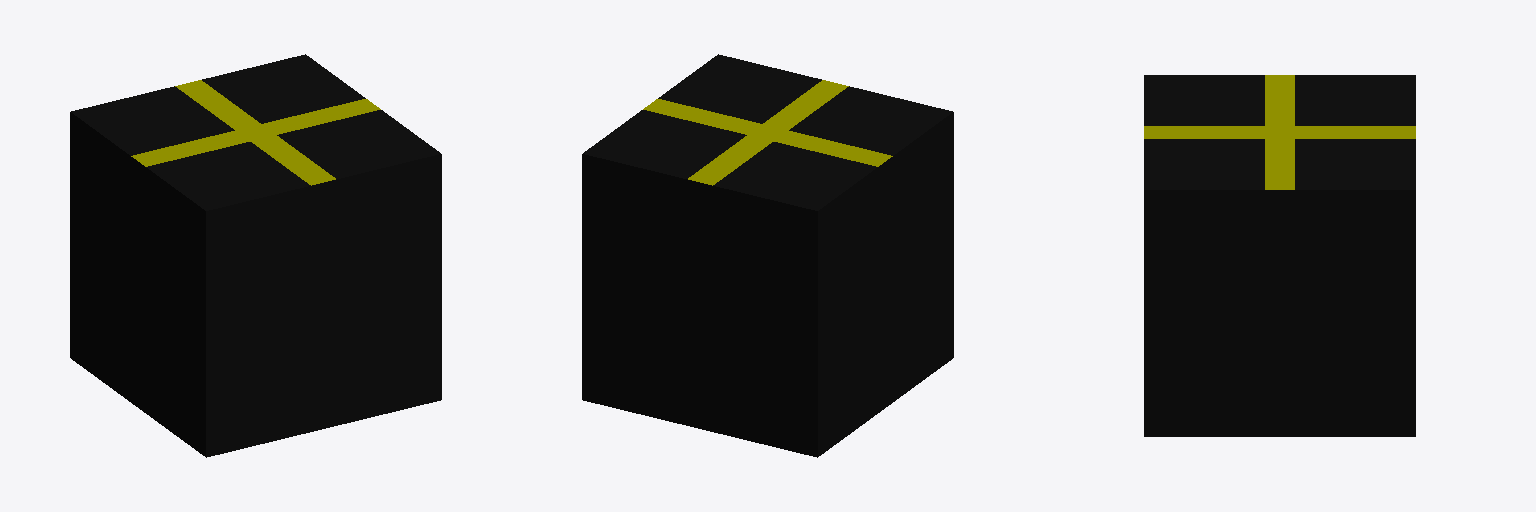
Rendered from BlackCubeT.obj.
The picture shows the model from 3 angles: view 1: azimuth 30°, elevation 25°; view 2: azimuth 150°, elevation 25°; view 3: azimuth 270°, elevation 25°; orthographic projection.
Parts seen in each view (by area): view 1: Cube; view 2: Cube; view 3: Cube.
Part boxes in pixels (left/top/right/bottom): Cube: left=70, top=54, right=441, bottom=457; Cube: left=582, top=54, right=953, bottom=457; Cube: left=1144, top=75, right=1415, bottom=436.
Size of the model in its own units: 2 by 2 by 2.